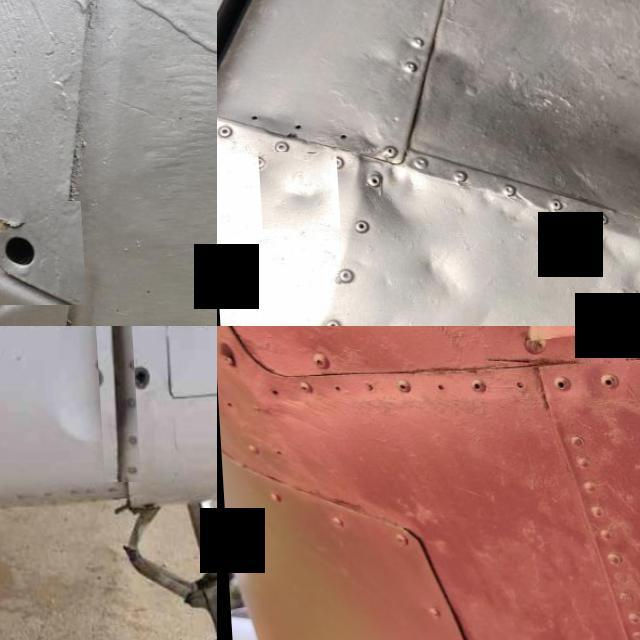Crack: (93, 326, 132, 482), (477, 326, 622, 363)
Dent: (329, 140, 429, 242), (255, 152, 336, 229), (398, 238, 478, 314), (44, 390, 93, 452)
Missing_Fastener: (0, 201, 81, 305)
